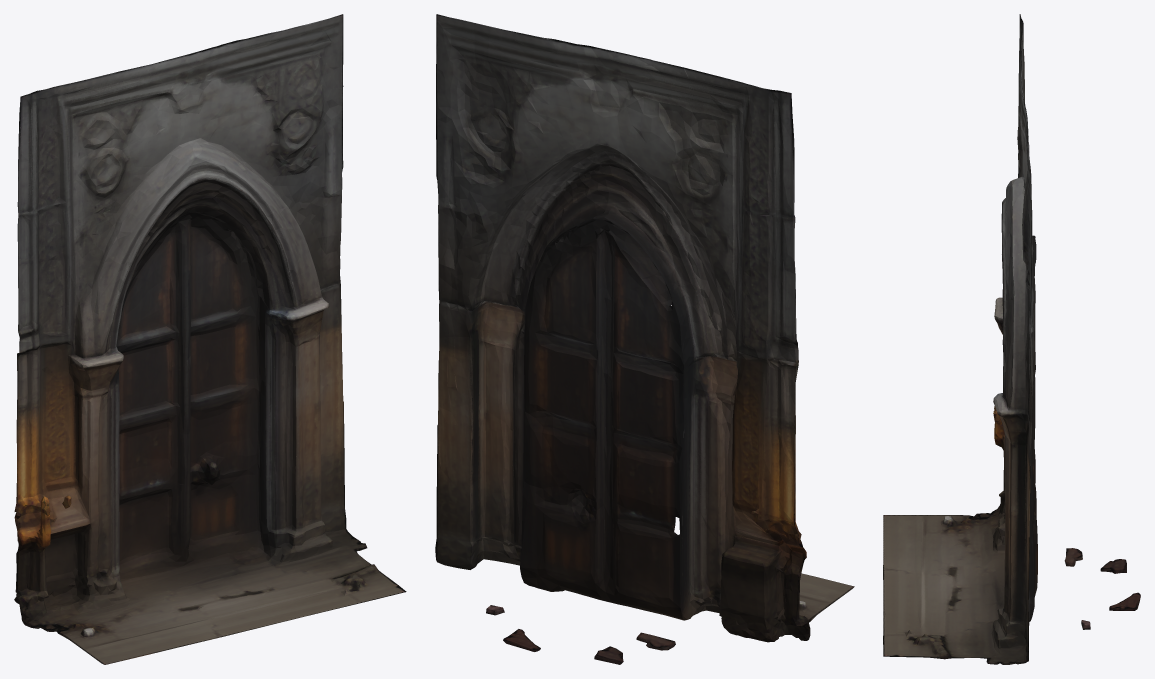
Rendered from puerta_ojival_trellis.glb.
The picture shows the model from 3 angles, left to right: view 1: azimuth 30°, elevation 25°; view 2: azimuth 150°, elevation 25°; view 3: azimuth 270°, elevation 25°; orthographic projection. The views are drawn at different scales.
Parts seen in each view (by area): view 1: world; view 2: world; view 3: world.
Part boxes in pixels (x1,y1,x2,y2): world: (14,14,406,664); world: (435,14,854,664); world: (883,14,1140,664).
Size of the model in its own units: 0.6841 by 1 by 0.4683.
Materials: 1 (1 with a texture image).
